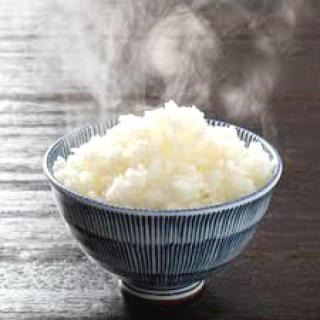Nasi: (52, 99, 278, 212)
